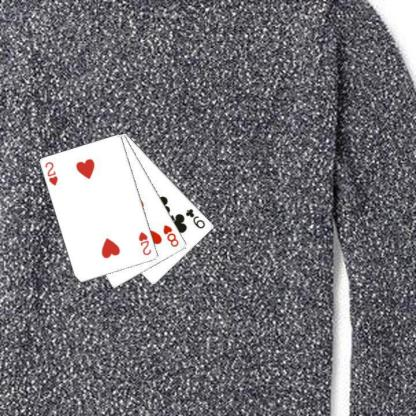2H: (136, 230, 152, 257), (43, 160, 59, 187)
8H: (161, 222, 180, 248)
9C: (183, 206, 207, 230)
